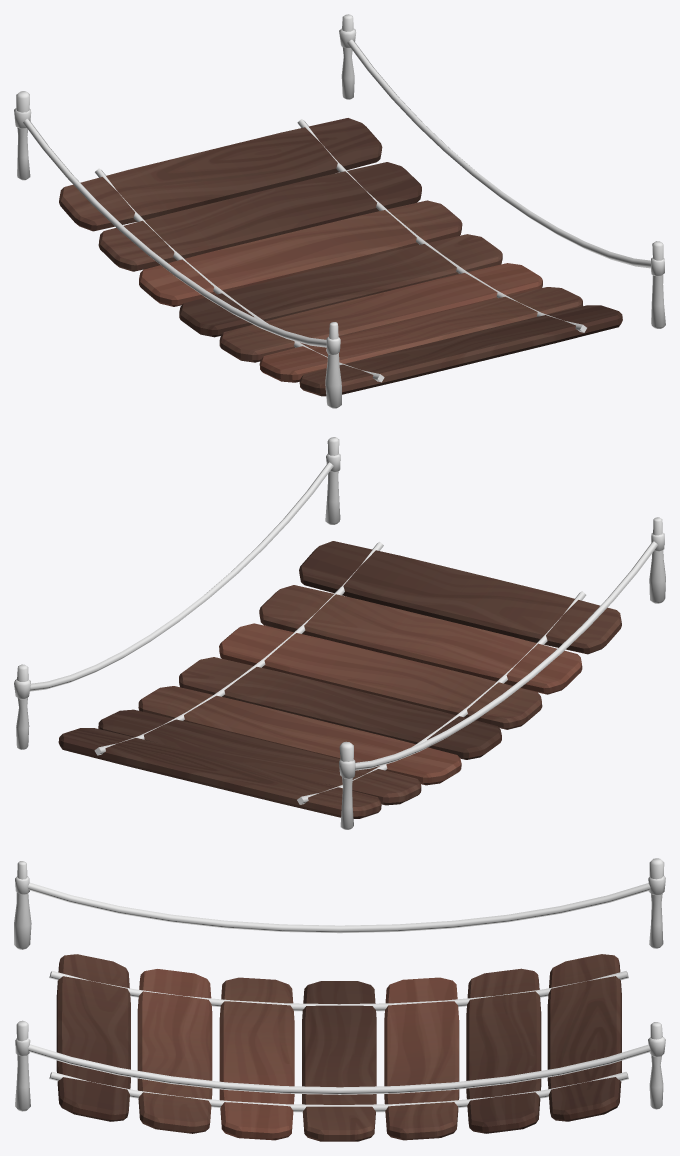
Rendered from Puente_2.fbx.
3 renders of one model, top to bottom at view 1: azimuth 30°, elevation 25°; view 2: azimuth 150°, elevation 25°; view 3: azimuth 270°, elevation 25°, orthographic. The views are drawn at different scales.
Parts seen in each view (by area): view 1: Tablones_p2, CurvaSogas.2_1_, Palos_puente2, CurvaSogas2_2; view 2: Tablones_p2, CurvaSogas.2_1_, Palos_puente2, CurvaSogas2_2; view 3: Tablones_p2, CurvaSogas.2_1_, Palos_puente2, CurvaSogas2_2.
Boxes of the visible parts, x1=… form: Tablones_p2: x1=59, y1=118, x2=622, y2=396; CurvaSogas.2_1_: x1=23, y1=39, x2=650, y2=347; Palos_puente2: x1=14, y1=14, x2=665, y2=408; CurvaSogas2_2: x1=95, y1=119, x2=586, y2=382; Tablones_p2: x1=58, y1=541, x2=621, y2=818; CurvaSogas.2_1_: x1=30, y1=462, x2=657, y2=770; Palos_puente2: x1=14, y1=437, x2=665, y2=829; CurvaSogas2_2: x1=94, y1=541, x2=586, y2=804; Tablones_p2: x1=56, y1=954, x2=621, y2=1141; CurvaSogas.2_1_: x1=27, y1=882, x2=650, y2=1094; Palos_puente2: x1=14, y1=858, x2=665, y2=1111; CurvaSogas2_2: x1=49, y1=971, x2=628, y2=1112.
Bounding box in the file's own units: 1172 × 409 × 1907.
